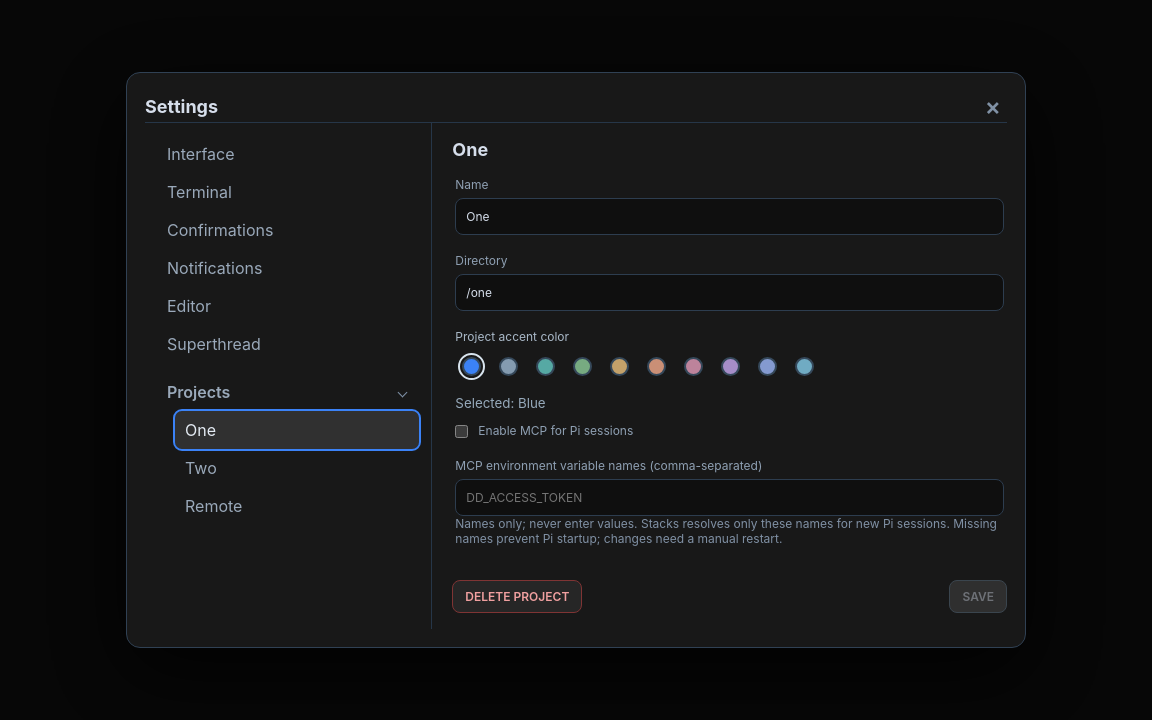
Test: SettingsDialog › passes the loaded project revision and resets from the canonical saved project
Replace the text in the field labelled "Name" with "Renamed": (730, 216) [455,198,1004,235]
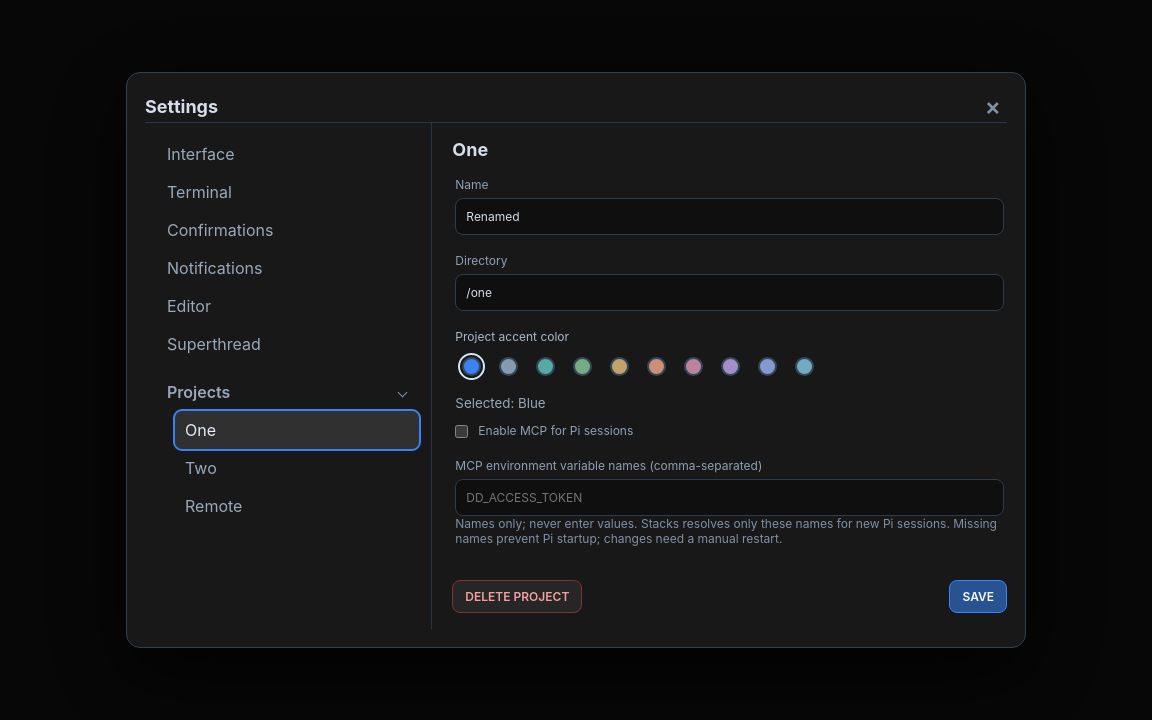
Click the button "Save": (978, 596) [950,580,1007,613]
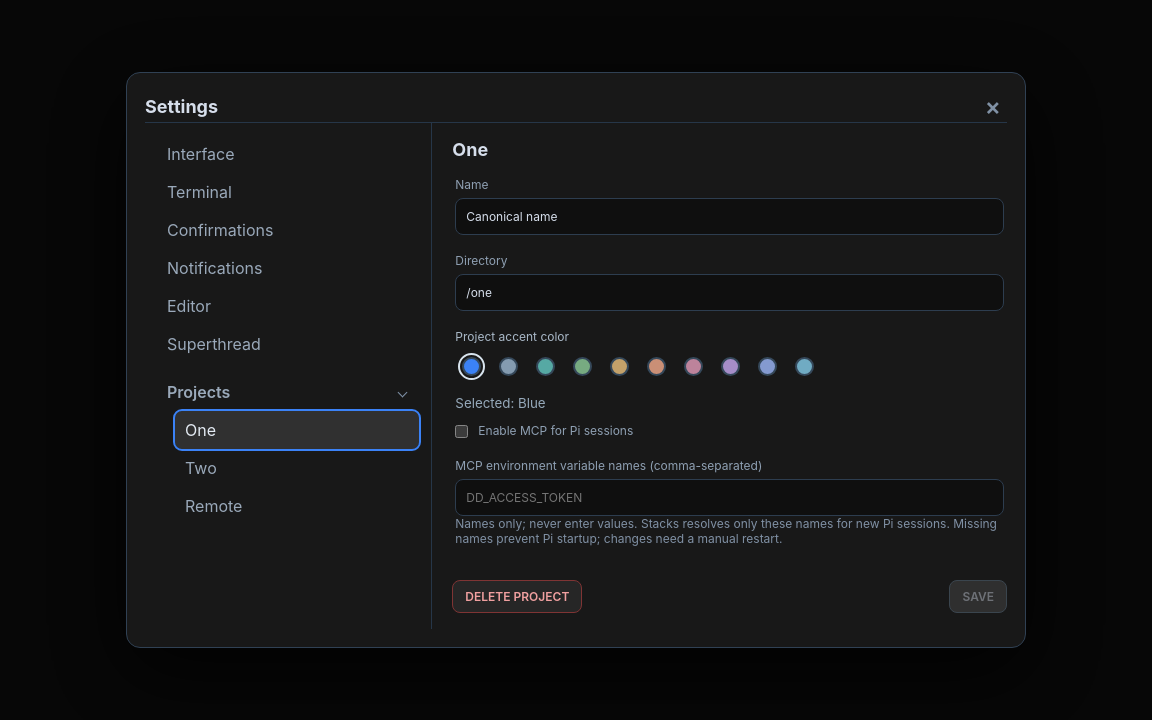
Now the button "Save" is disabled, box [950,580,1007,613]
